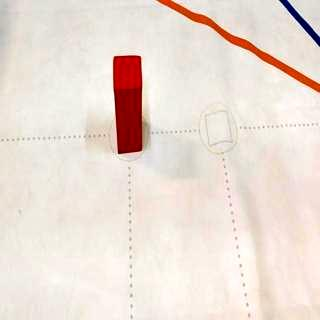redbox: (112, 55, 143, 156)
